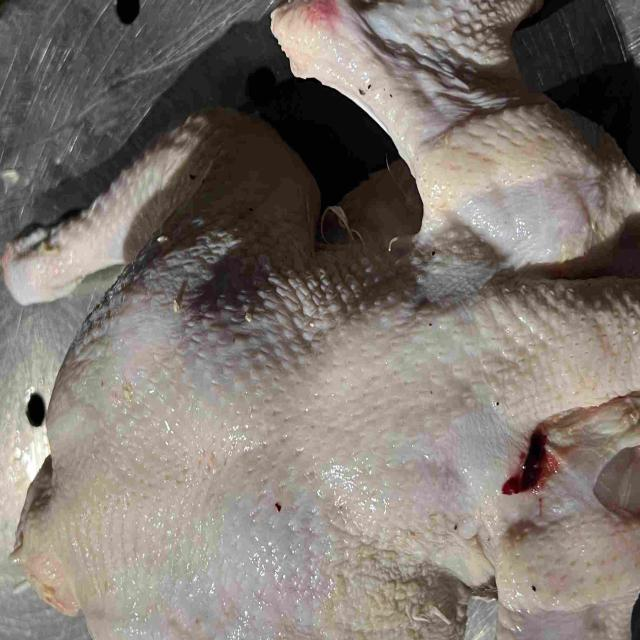back: (10, 281, 520, 640)
leg: (0, 110, 313, 302)
neck: (499, 264, 640, 417)
wing: (264, 0, 640, 283), (490, 500, 640, 640)
